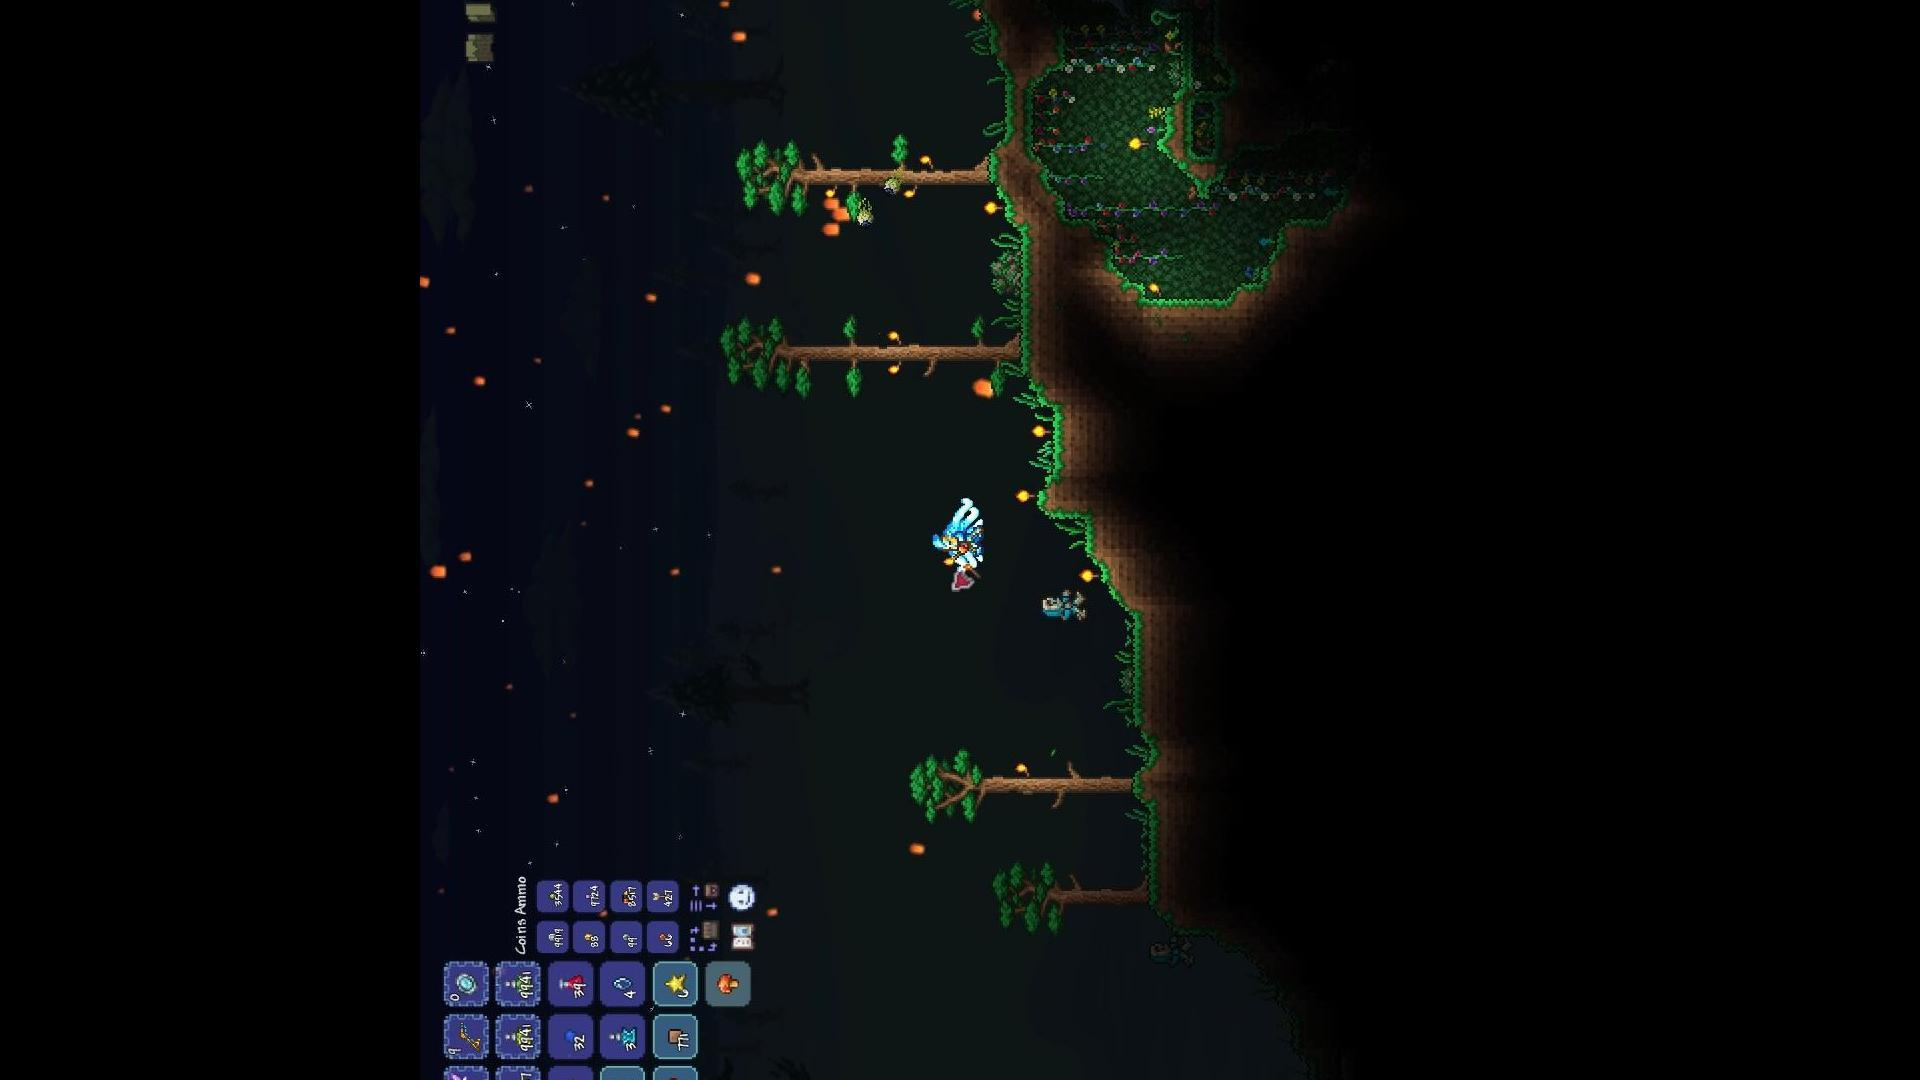mirror: (452, 972, 480, 998)
star: (658, 971, 694, 1000)
